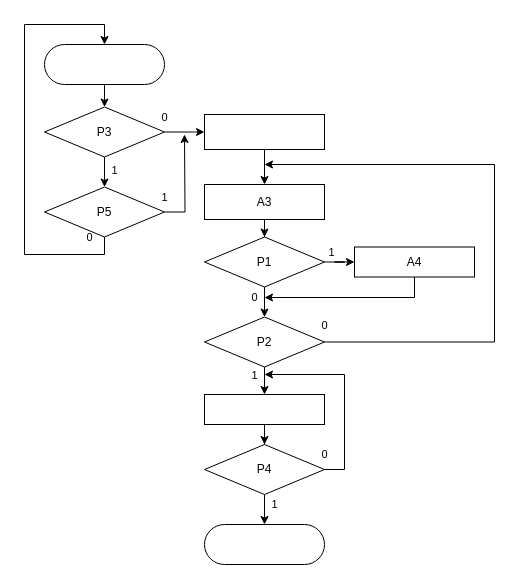
This 520x582 diagram has some shape labels left out. Each missing label, with the centre of its shape:
"A0" belongs at point 104,64.
"A1" belongs at point 264,132.
"A2" belongs at point 264,409.
"Ak" belongs at point 264,544.
